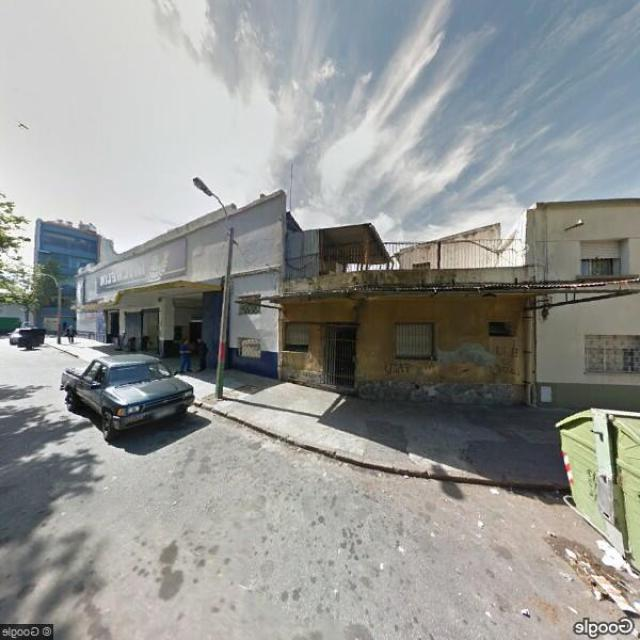garbage container: (541, 391, 639, 578)
